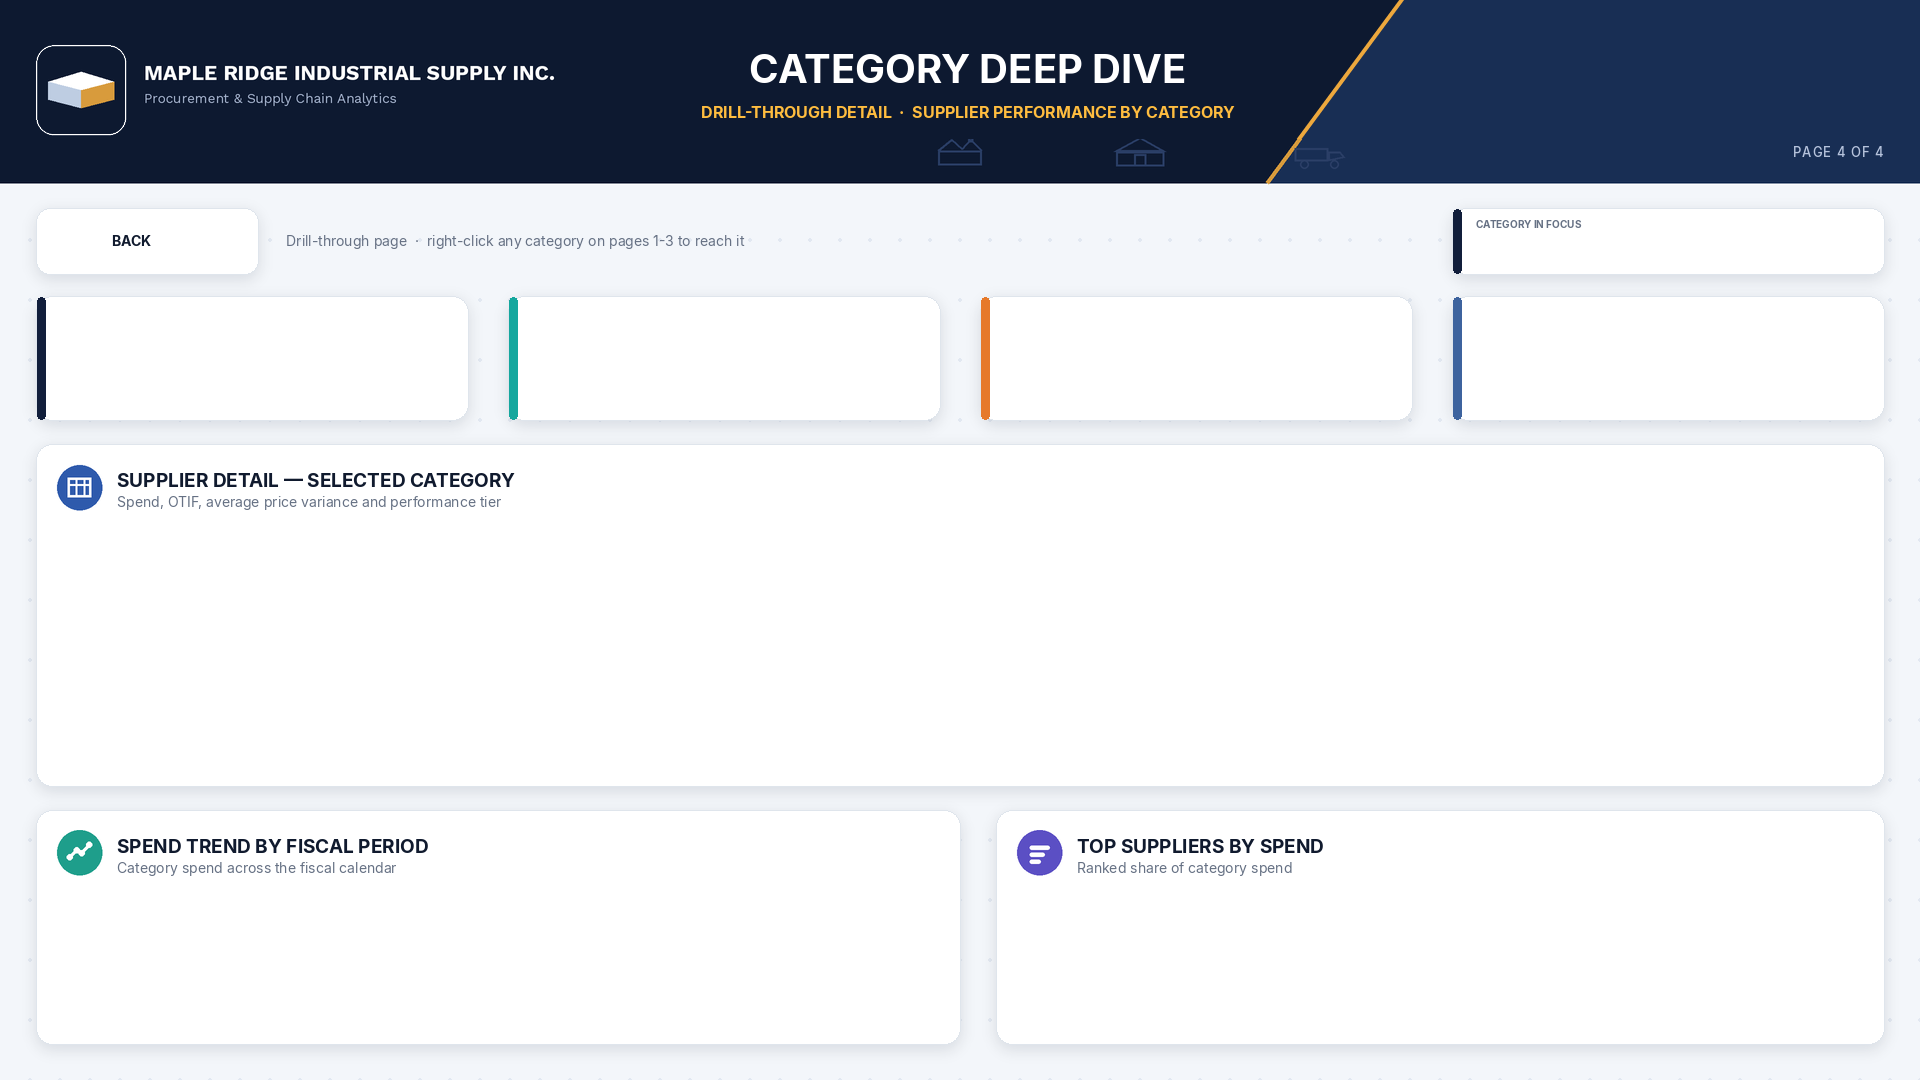

Layout of this report page (visuals, bound fields, positions):
{"tool":"powerbi","page":{"name":"Category Deep Dive","canvas":[1920,1080],"ordinal":3},"visuals":[{"type":"actionButton","box":[48,220,52,42],"z":0},{"type":"card","fields":{"Values":["Dim_Category.Category"]},"box":[1466,232,412,44],"z":500},{"type":"cardVisual","fields":{"Data":["Measure_Table.Total Spend"]},"box":[50,302,408,112],"z":1000},{"type":"cardVisual","fields":{"Data":["Measure_Table.OTIF %"]},"box":[522,302,408,112],"z":2000},{"type":"cardVisual","fields":{"Data":["Measure_Table.Maverick Spend %"]},"box":[994,302,408,112],"z":3000},{"type":"cardVisual","fields":{"Data":["Measure_Table.Cost Savings Opportunity"]},"box":[1466,302,408,112],"z":4000},{"type":"tableEx","fields":{"Values":["Dim_Supplier.Supplier_Name","Measure_Table.Total Spend","Measure_Table.OTIF %","Measure_Table.Avg Price Variance %","Measure_Table.Performance Tier"]},"box":[50,528,1820,244],"z":5000},{"type":"lineChart","fields":{"Category":["Dim_Date.Fiscal_Period"],"Y":["Measure_Table.Total Spend"]},"box":[50,894,896,136],"z":6000},{"type":"clusteredBarChart","fields":{"Category":["Dim_Supplier.Supplier_Name"],"Y":["Measure_Table.Total Spend"]},"box":[1010,894,860,136],"z":7000}]}

Visuals, with their boxes in screenshot pixels (x1, y1, x2, y2), scaled from the page's 1920x1080 canvas onto the 1920x1080 screenshot:
actionButton: bbox=(48, 220, 100, 262)
card - Dim_Category.Category: bbox=(1466, 232, 1878, 276)
cardVisual - Measure_Table.Total Spend: bbox=(50, 302, 458, 414)
cardVisual - Measure_Table.OTIF %: bbox=(522, 302, 930, 414)
cardVisual - Measure_Table.Maverick Spend %: bbox=(994, 302, 1402, 414)
cardVisual - Measure_Table.Cost Savings Opportunity: bbox=(1466, 302, 1874, 414)
tableEx - Dim_Supplier.Supplier_Name x Measure_Table.Total Spend: bbox=(50, 528, 1870, 772)
lineChart - Dim_Date.Fiscal_Period x Measure_Table.Total Spend: bbox=(50, 894, 946, 1030)
clusteredBarChart - Dim_Supplier.Supplier_Name x Measure_Table.Total Spend: bbox=(1010, 894, 1870, 1030)
